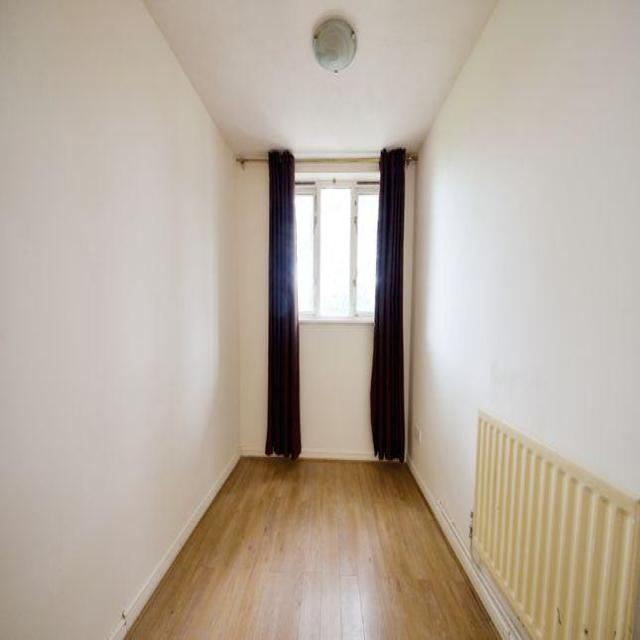Wall: (0, 2, 268, 637), (405, 0, 640, 637), (127, 458, 496, 639), (146, 0, 495, 156), (302, 324, 372, 457)
